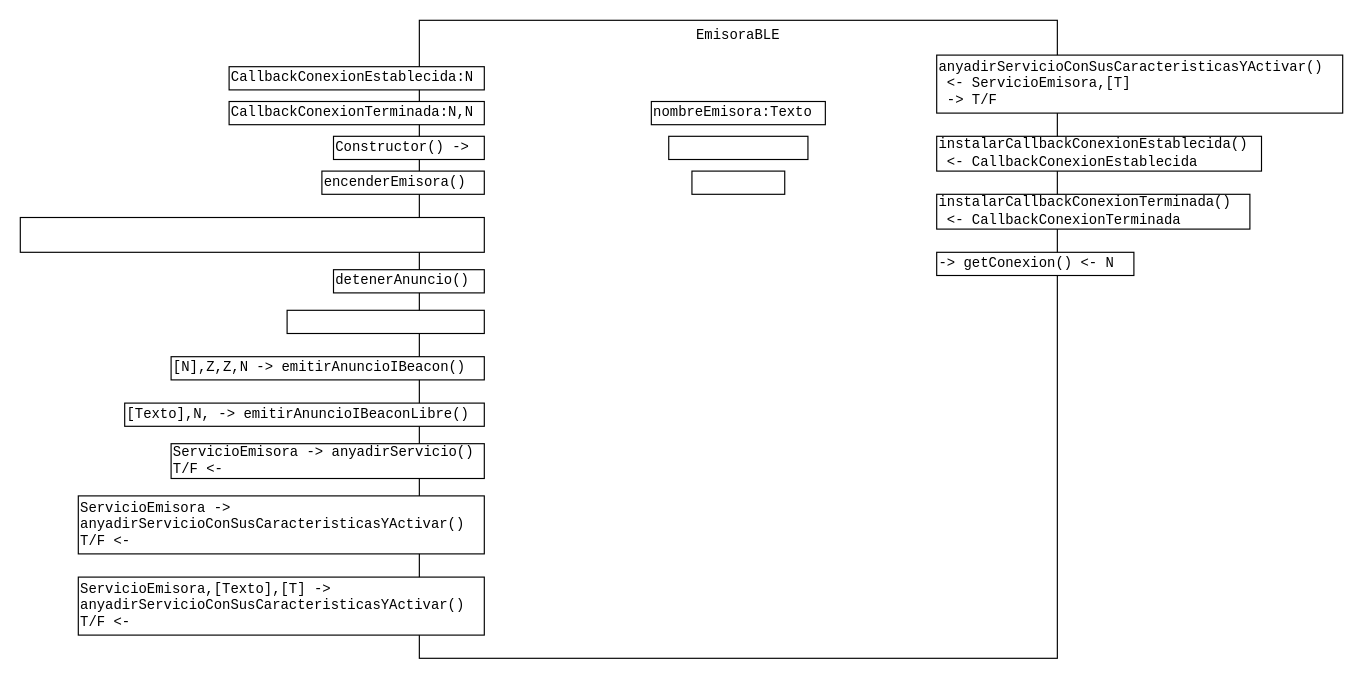
Image size: 1363x679. Some labels were removed from this diagram. The box of each missing label's shape, as (x1, y1, x2, y2) in pixels:
CallbackConexionEstablecida,CallbackConexionTerminada -> encenderEmisora(): (19, 216, 484, 252)
fabricanteID:N: (668, 135, 808, 160)
txPower:Z: (691, 170, 785, 194)
V/F <- estaAnunciado(): (286, 309, 484, 334)
